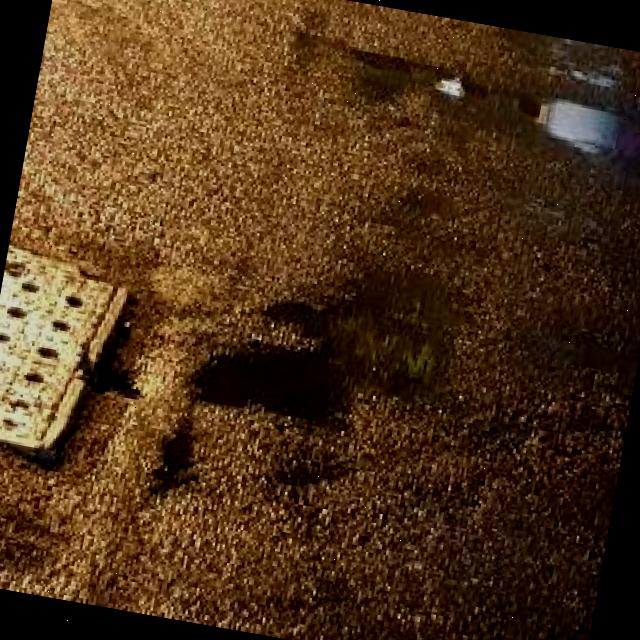waterlogging: (514, 82, 640, 174)
